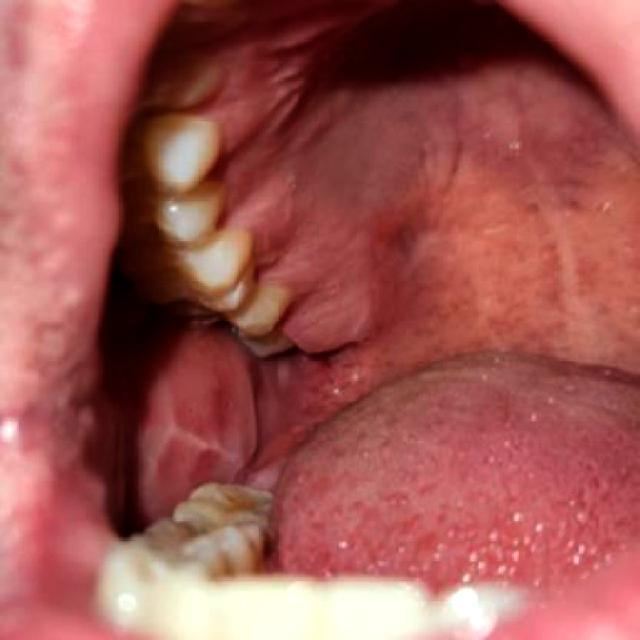Plaque: (235, 206, 295, 279)
